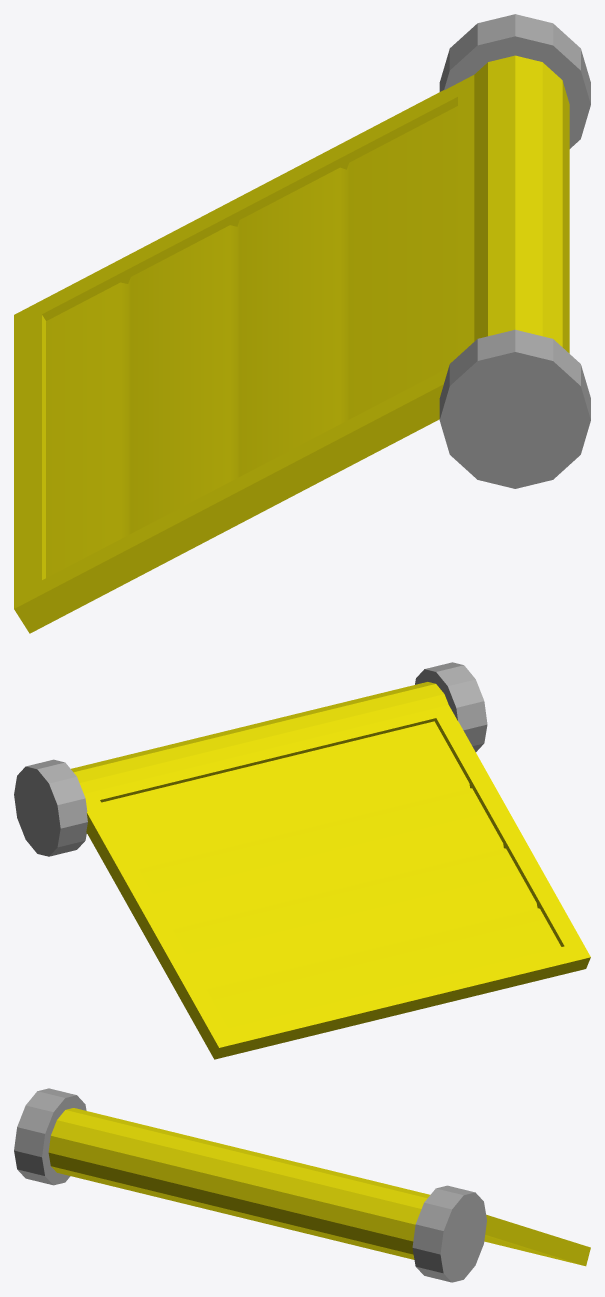
The model's file is _ANM_CeilDoor.fbx.
3 views of the same model, one above another, from view 1: azimuth 30°, elevation 25°; view 2: azimuth 150°, elevation 25°; view 3: azimuth 270°, elevation 25° (orthographic). The views are drawn at different scales.
Visible parts, largest first — view 1: pCube597, pCube598, pCylinder173, pCylinder175, pCylinder174; view 2: pCube597, pCube598, pCylinder173, pCylinder174, pCylinder175; view 3: pCylinder173, pCylinder174, pCylinder175, pCube598.
Part boxes in pixels (left/top/right/bottom): pCube597: left=46, top=106, right=457, bottom=577; pCube598: left=14, top=75, right=474, bottom=633; pCylinder173: left=474, top=55, right=569, bottom=353; pCylinder175: left=439, top=329, right=590, bottom=488; pCylinder174: left=439, top=14, right=590, bottom=148; pCube597: left=101, top=721, right=561, bottom=1028; pCube598: left=84, top=705, right=590, bottom=1059; pCylinder173: left=71, top=682, right=448, bottom=833; pCylinder174: left=14, top=759, right=87, bottom=856; pCylinder175: left=415, top=662, right=487, bottom=751; pCylinder173: left=48, top=1108, right=429, bottom=1259; pCylinder174: left=412, top=1185, right=486, bottom=1282; pCylinder175: left=14, top=1088, right=86, bottom=1185; pCube598: left=484, top=1214, right=590, bottom=1266.
Bounding box in the file's own units: 7.94 × 3.05 × 8.52.
